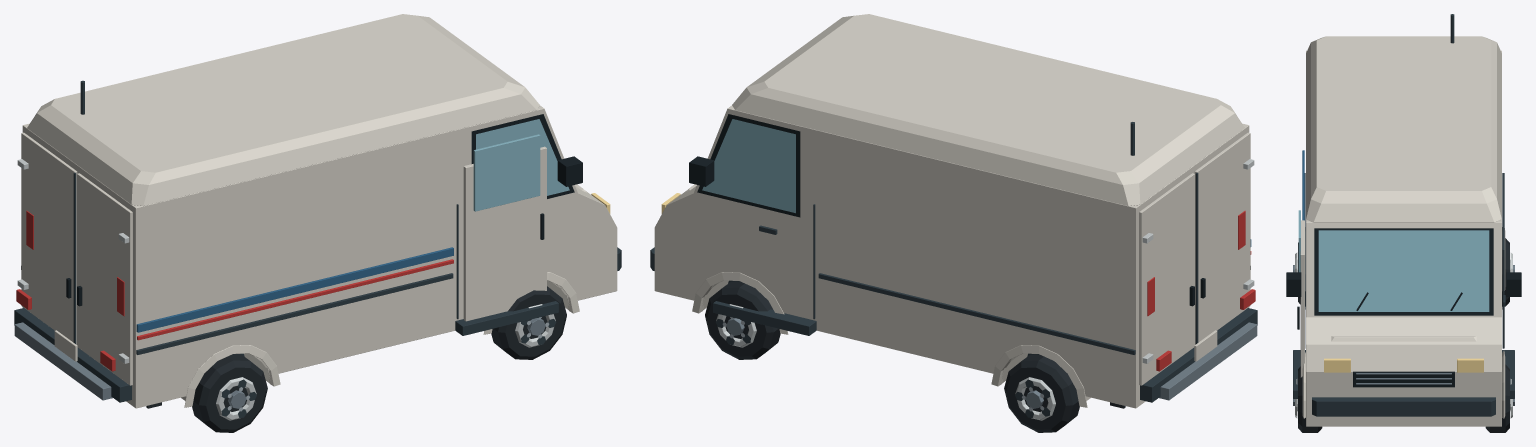
The model's file is b15_postal_walkin_truck.glb.
The picture shows the model from 3 angles, left to right: view 1: azimuth 30°, elevation 25°; view 2: azimuth 150°, elevation 25°; view 3: azimuth 270°, elevation 25°; orthographic projection. The views are drawn at different scales.
Parts seen in each view (by area): view 1: b15_postal_walkin_truck; view 2: b15_postal_walkin_truck; view 3: b15_postal_walkin_truck.
Part boxes in pixels (left/top/right/bottom): b15_postal_walkin_truck: left=14, top=14, right=621, bottom=432; b15_postal_walkin_truck: left=650, top=14, right=1257, bottom=432; b15_postal_walkin_truck: left=1286, top=14, right=1521, bottom=432.
Size of the model in its own units: 5.48 by 3.1 by 2.52.
